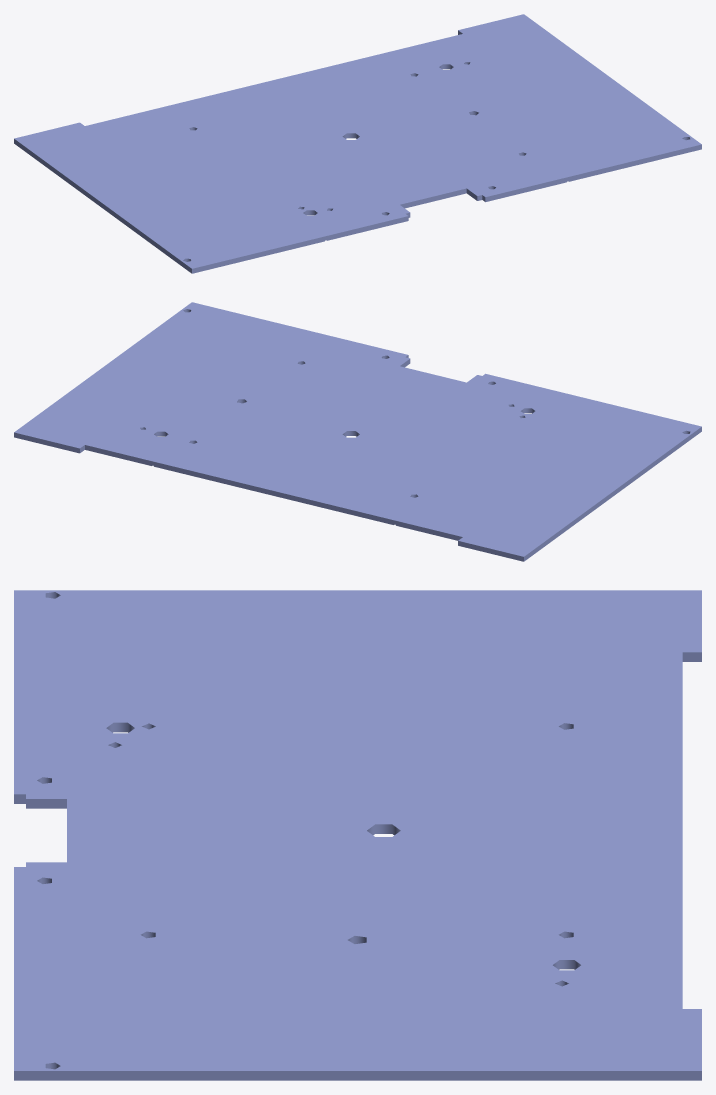
Rendered from Copie de Bati Plaque Haute^Copie de Bati_Horloge Comtoise Verge - Sonnerie.obj.
3 views of the same model, one above another, from view 1: azimuth 30°, elevation 25°; view 2: azimuth 150°, elevation 25°; view 3: azimuth 270°, elevation 25° (orthographic). The views are drawn at different scales.
Parts seen in each view (by area): view 1: Face_1, Face_9, Face_17, Face_8; view 2: Face_1, Face_5, Face_8; view 3: Face_1, Face_2.
Boxes of the visible parts, x1,y1,x2,y2 form: Face_1: (14, 14, 701, 268); Face_9: (192, 216, 408, 273); Face_17: (485, 144, 701, 202); Face_8: (14, 139, 191, 273); Face_1: (14, 302, 701, 556); Face_5: (85, 445, 462, 540); Face_8: (524, 427, 701, 561); Face_1: (14, 590, 701, 1070); Face_2: (14, 1071, 701, 1080).
Size of the model in its own units: 0.236 by 0.0022 by 0.1427.
